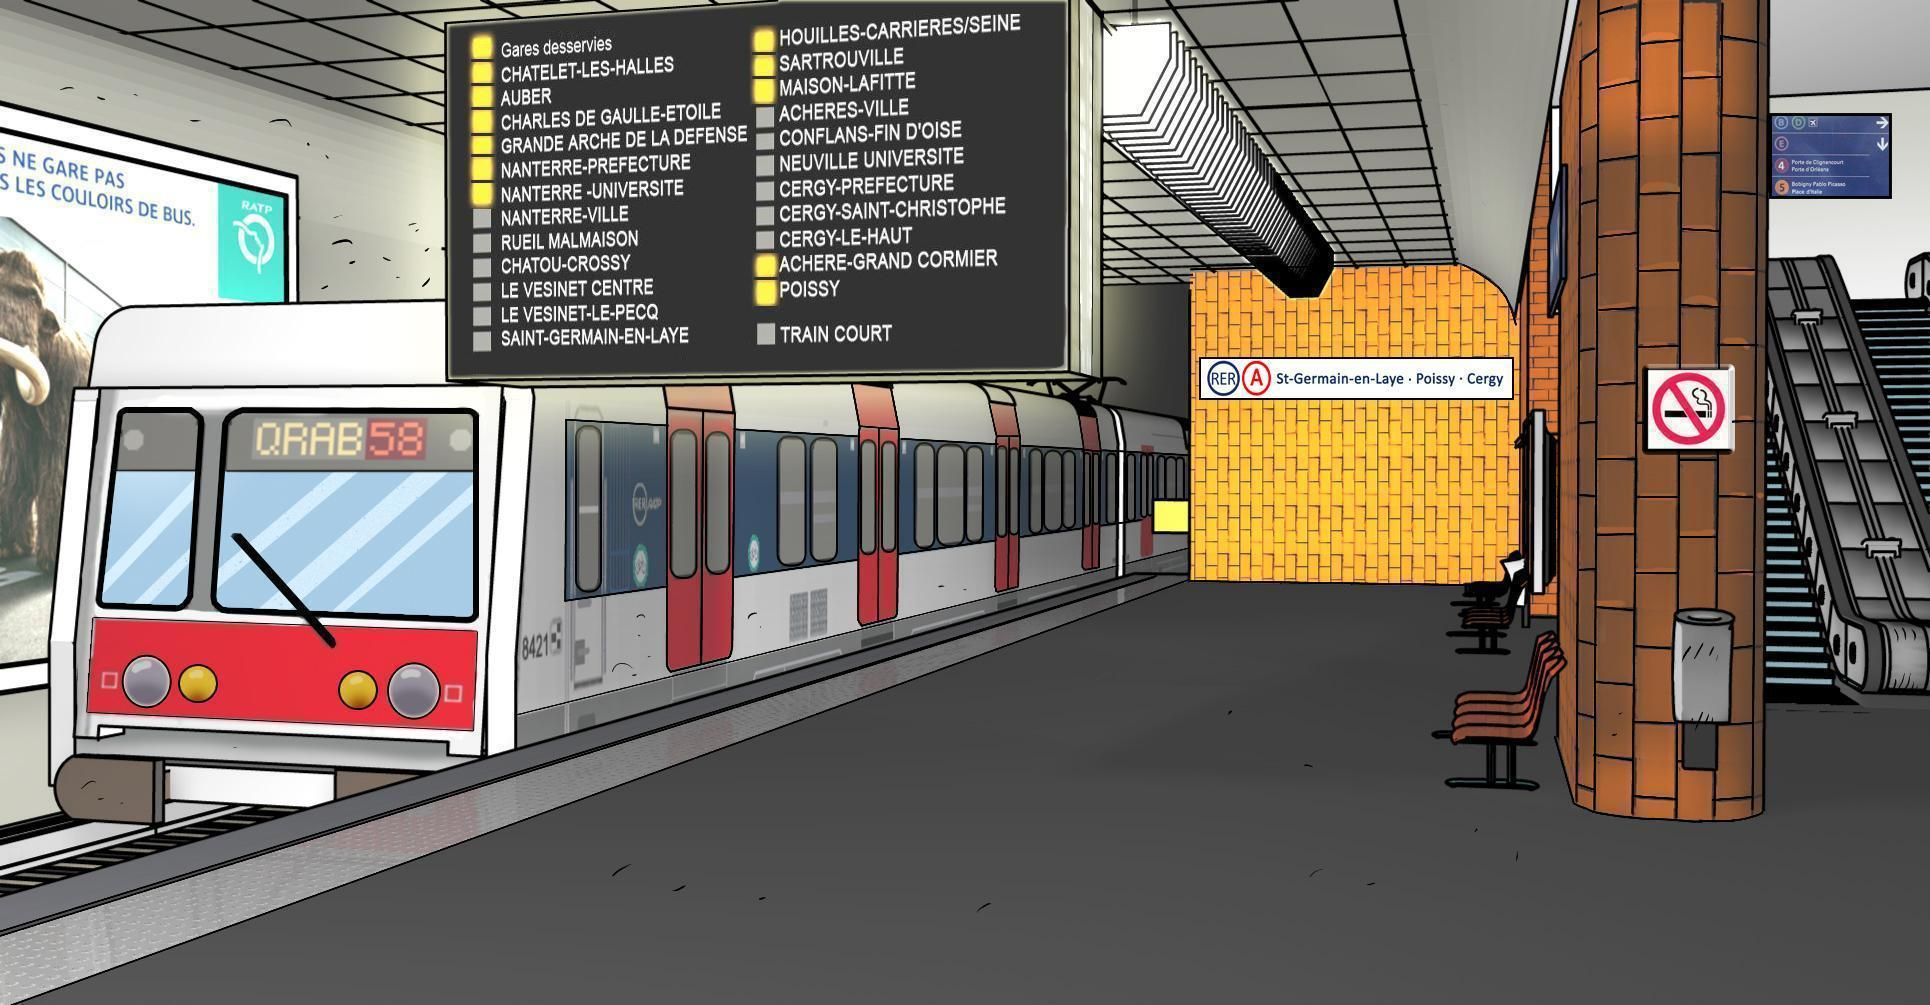chair: (1445, 659, 1584, 790)
train: (59, 292, 1202, 863)
